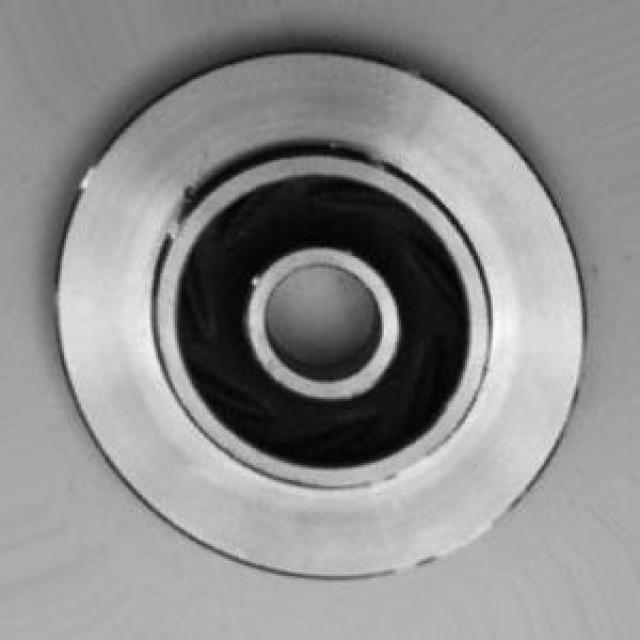Defect: (153, 187, 196, 236)
